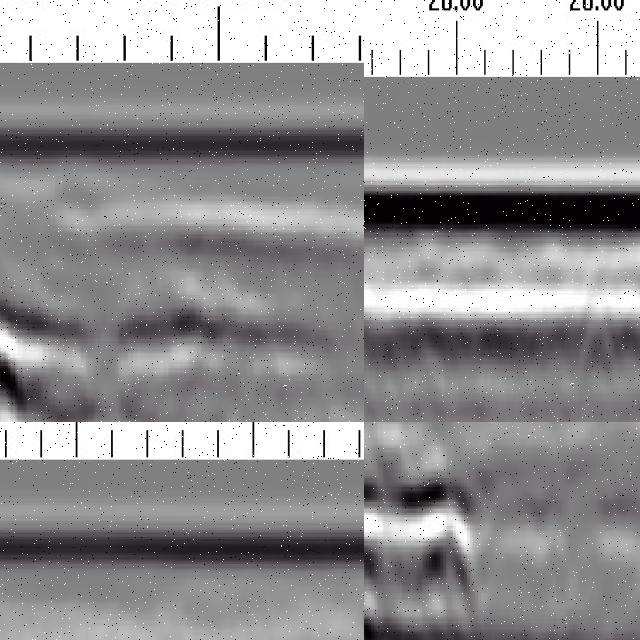loose: (1, 241, 223, 423), (365, 423, 504, 640)
